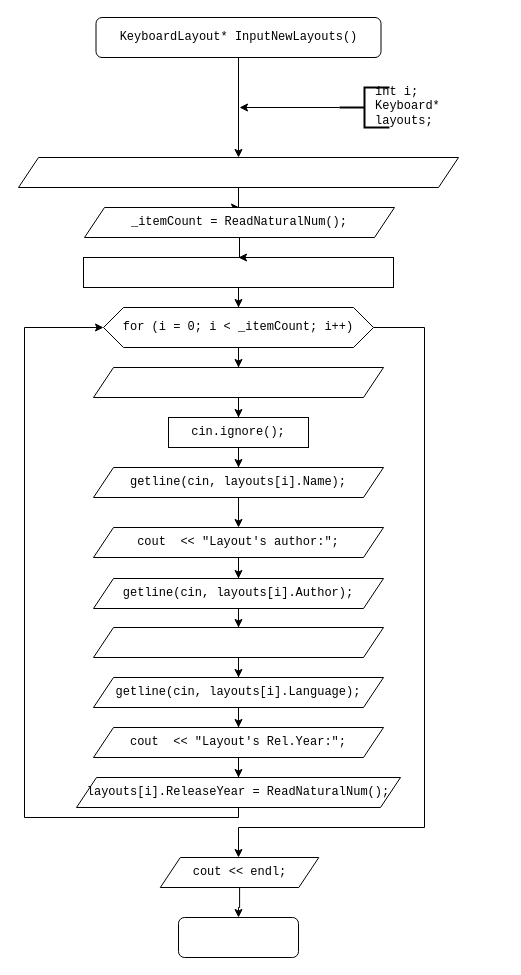
Some shapes in this 521 by 975 pixel diagram are drawn without their labels. Here are the shapes that lost their labels. From the top down, the centre of each, then its label:
[238,172]: cout << "Input the count of new keyboard layouts:" << endl;
[238,272]: layouts = new KeyboardLayout[_itemCount];
[238,382]: cout << endl << "Layout's name:";
[238,642]: cout << "Layout's language:";
[238,937]: return layouts;
